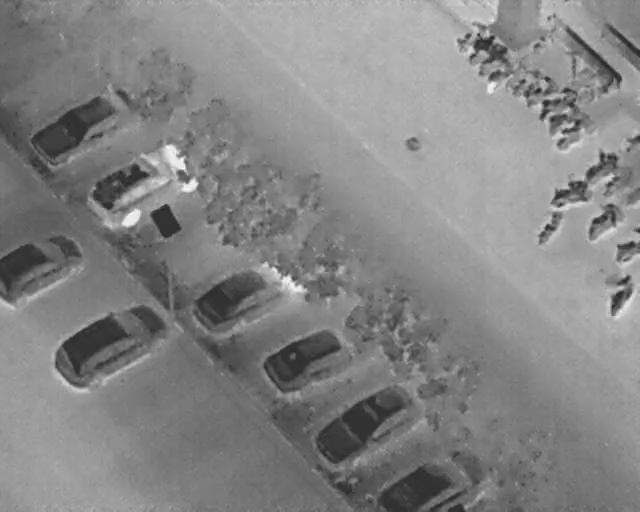Bicycle: (575, 197, 627, 246), (477, 48, 528, 97), (575, 142, 626, 189), (530, 81, 584, 125), (542, 173, 593, 215), (538, 97, 588, 138), (549, 112, 595, 154), (530, 203, 570, 250), (469, 40, 513, 82), (599, 271, 638, 317), (518, 72, 559, 108), (506, 64, 545, 101), (467, 30, 501, 63), (615, 227, 639, 266), (451, 24, 479, 51)
Car: (42, 285, 173, 402), (74, 132, 204, 243), (306, 369, 424, 474), (183, 246, 292, 341), (22, 85, 127, 175), (256, 315, 360, 401), (373, 446, 493, 511), (0, 225, 84, 308)
